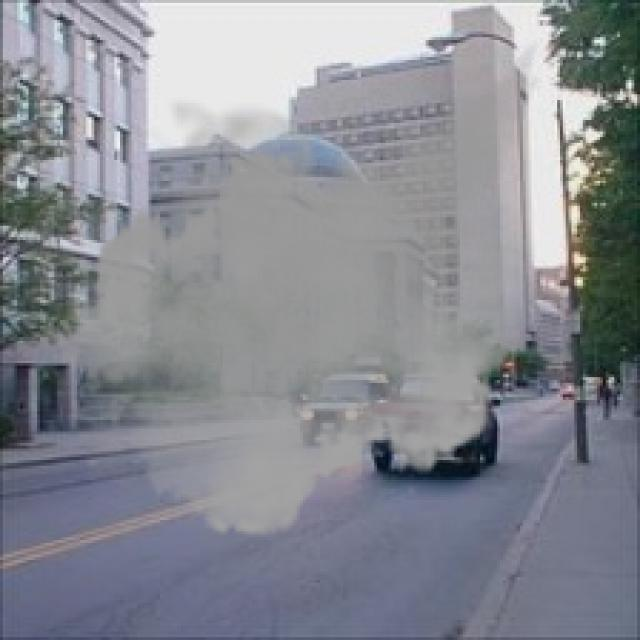smoke: (37, 14, 552, 552)
